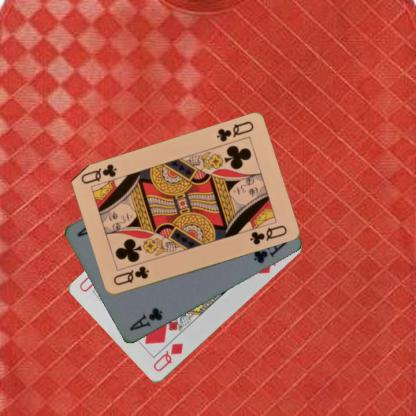Ac: (127, 305, 164, 333)
Qc: (214, 119, 255, 144), (110, 264, 150, 287)
Qd: (150, 340, 184, 374)
